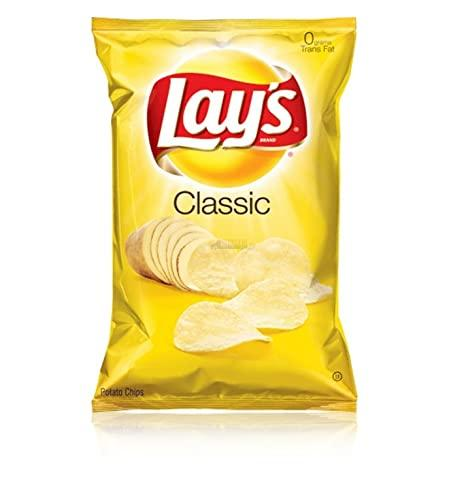Lays: (86, 17, 366, 419)
